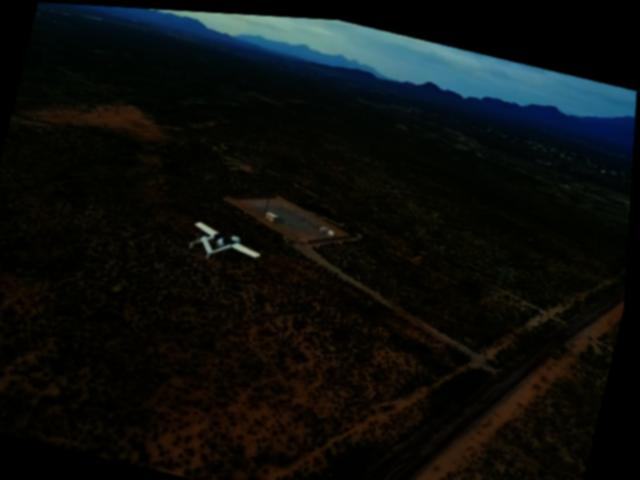plane: (185, 213, 268, 270)
